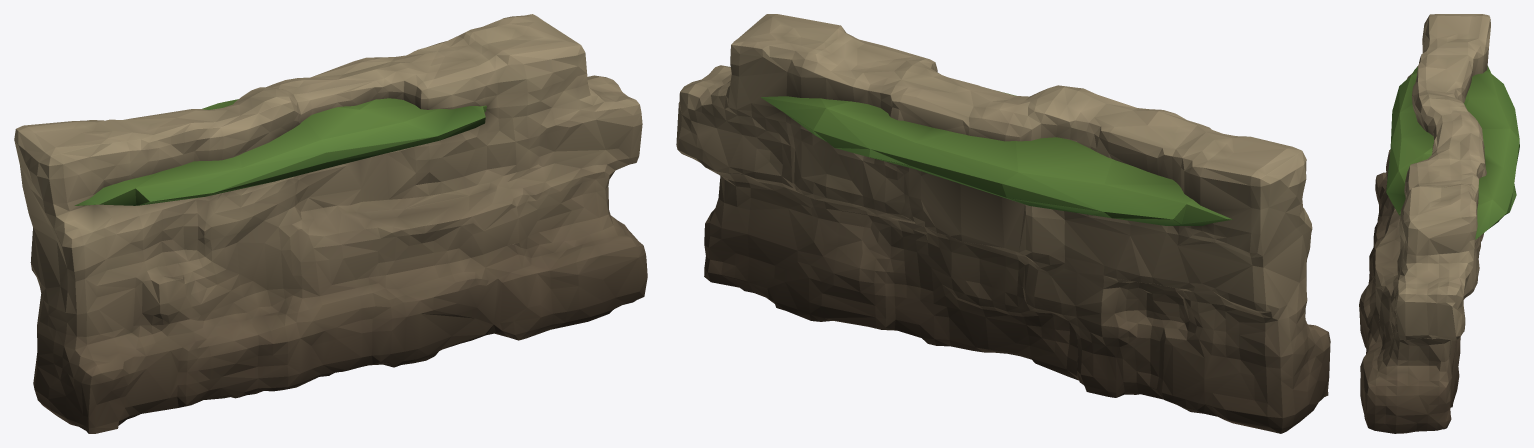
Rendered from klif_2.glb.
3 renders of one model, left to right at view 1: azimuth 30°, elevation 25°; view 2: azimuth 150°, elevation 25°; view 3: azimuth 270°, elevation 25°, orthographic. The views are drawn at different scales.
Parts seen in each view (by area): view 1: klif_2; view 2: klif_2; view 3: klif_2.
Part boxes in pixels (<box>): klif_2: <box>14,14,647,433</box>; klif_2: <box>676,14,1330,433</box>; klif_2: <box>1359,14,1519,433</box>.
Size of the model in its own units: 2.46 by 1.07 by 0.733.
